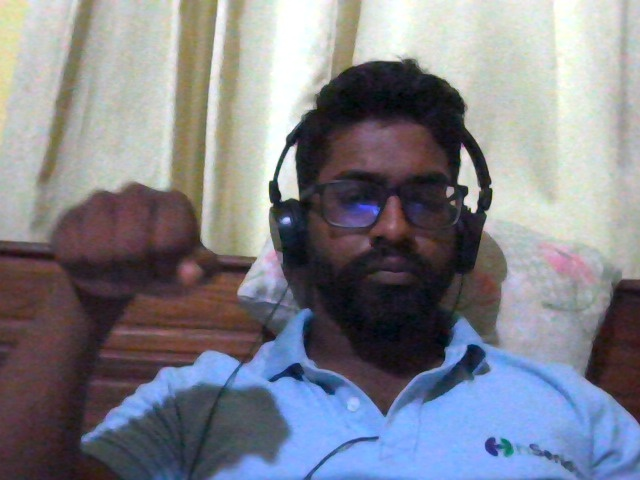Yes: (31, 163, 249, 320)
